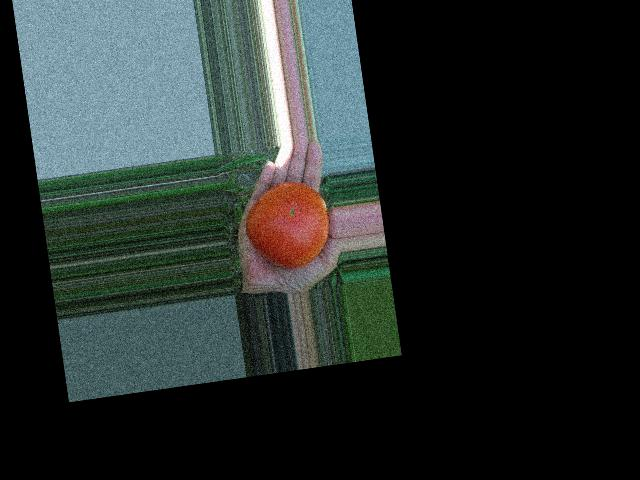tomato: (240, 177, 334, 273)
